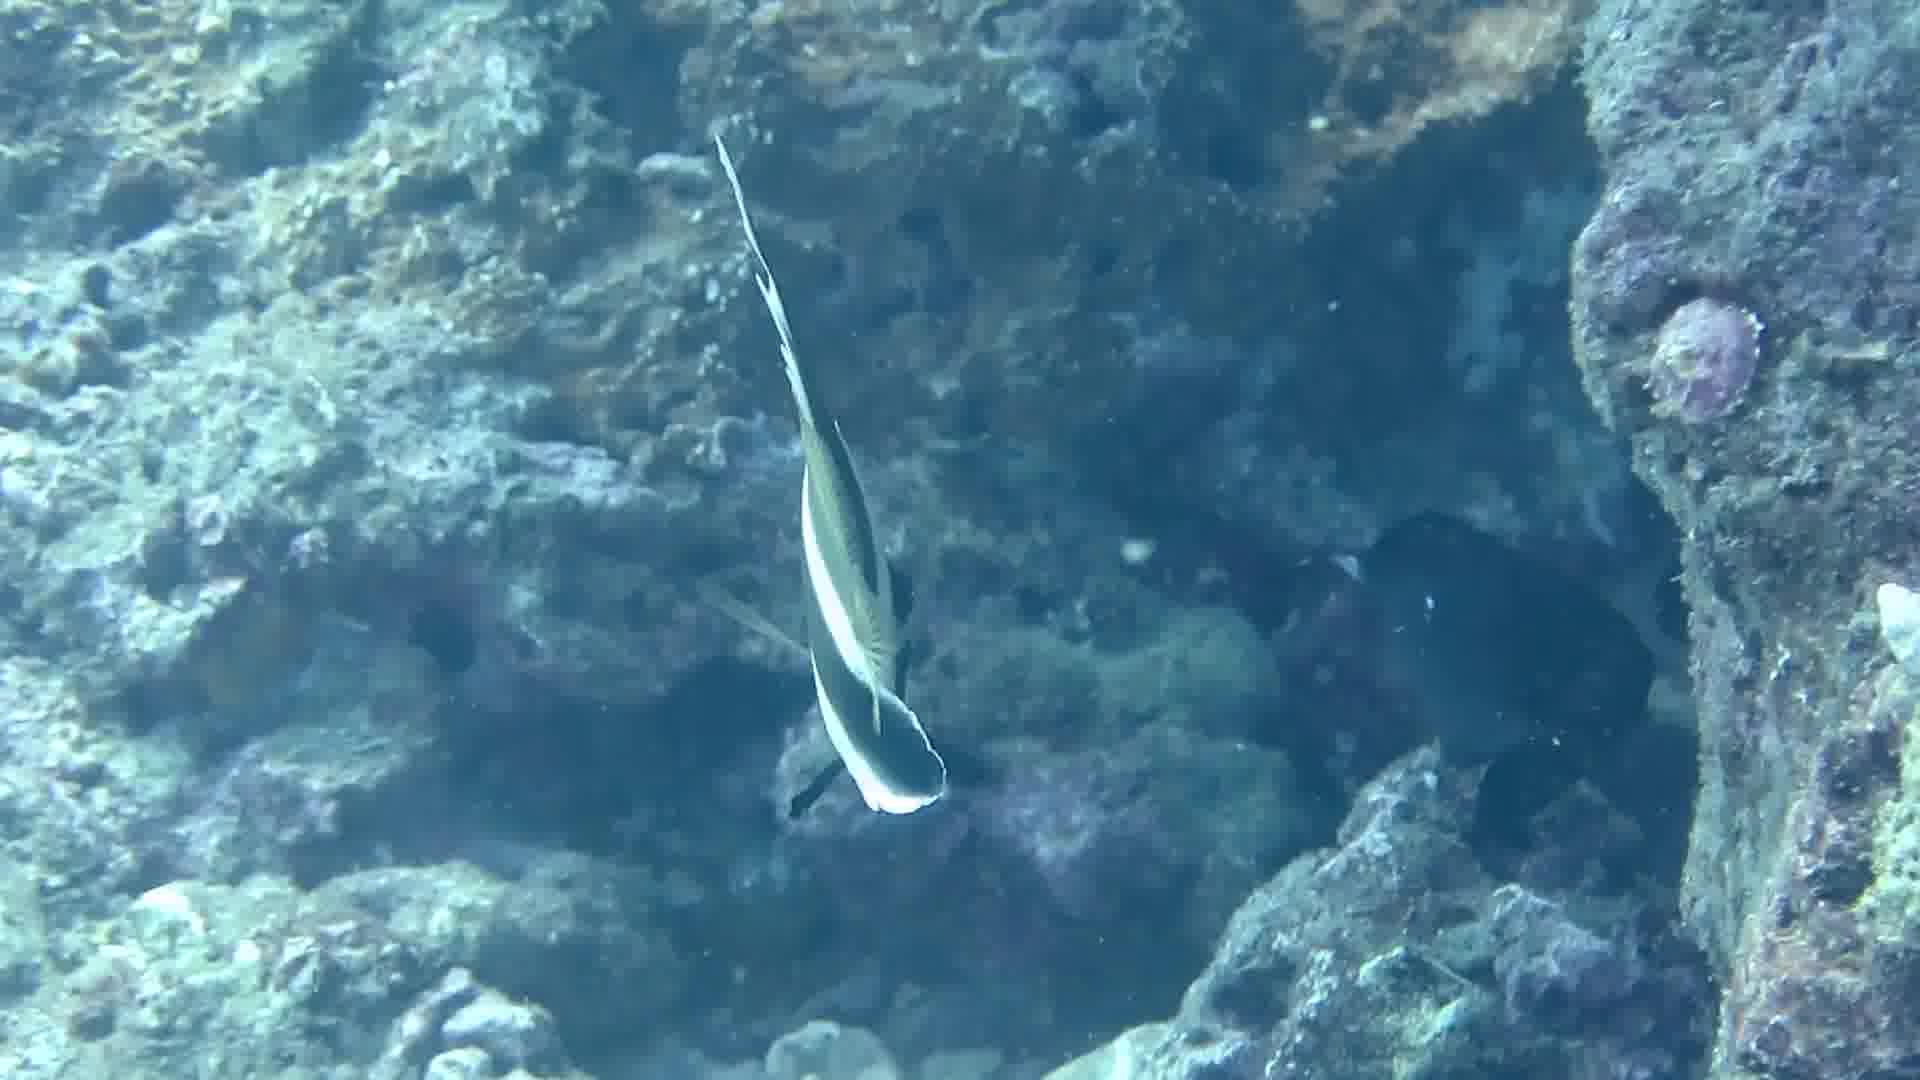Heniochus chrysostomus: (533, 66, 1075, 833)
